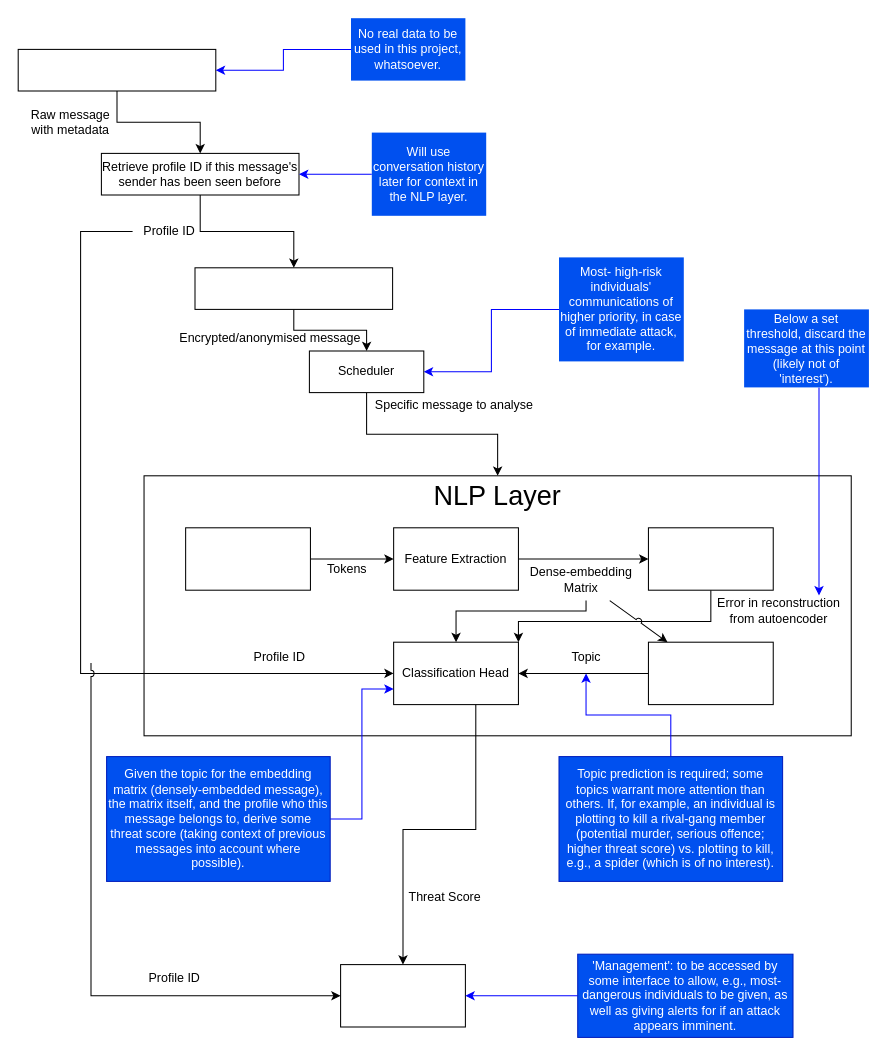
Some shapes in this 887 by 1056 pixel diagram are drawn without their labels. Here are the shapes that lost their labels. From the top down, the centre of each, then its label:
At point (116, 69): "Data collection (fabrication, for this project)".
At point (293, 288): "Storing data (and encrypting and/or anonymising)".
At point (247, 558): "Preprocessing and tokenisation".
At point (710, 558): "Anomaly Detection".
At point (710, 673): "Zero-Shot Classifier".
At point (402, 995): "Management of Analysed Data".
